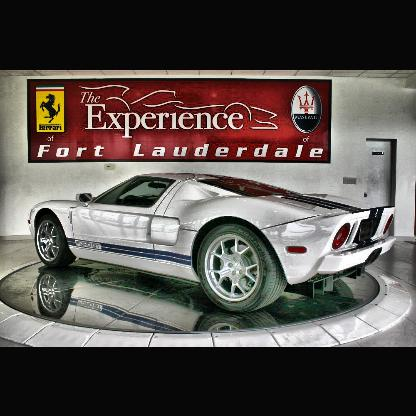Ford GT Coupe 2006: (27, 172, 397, 315)
